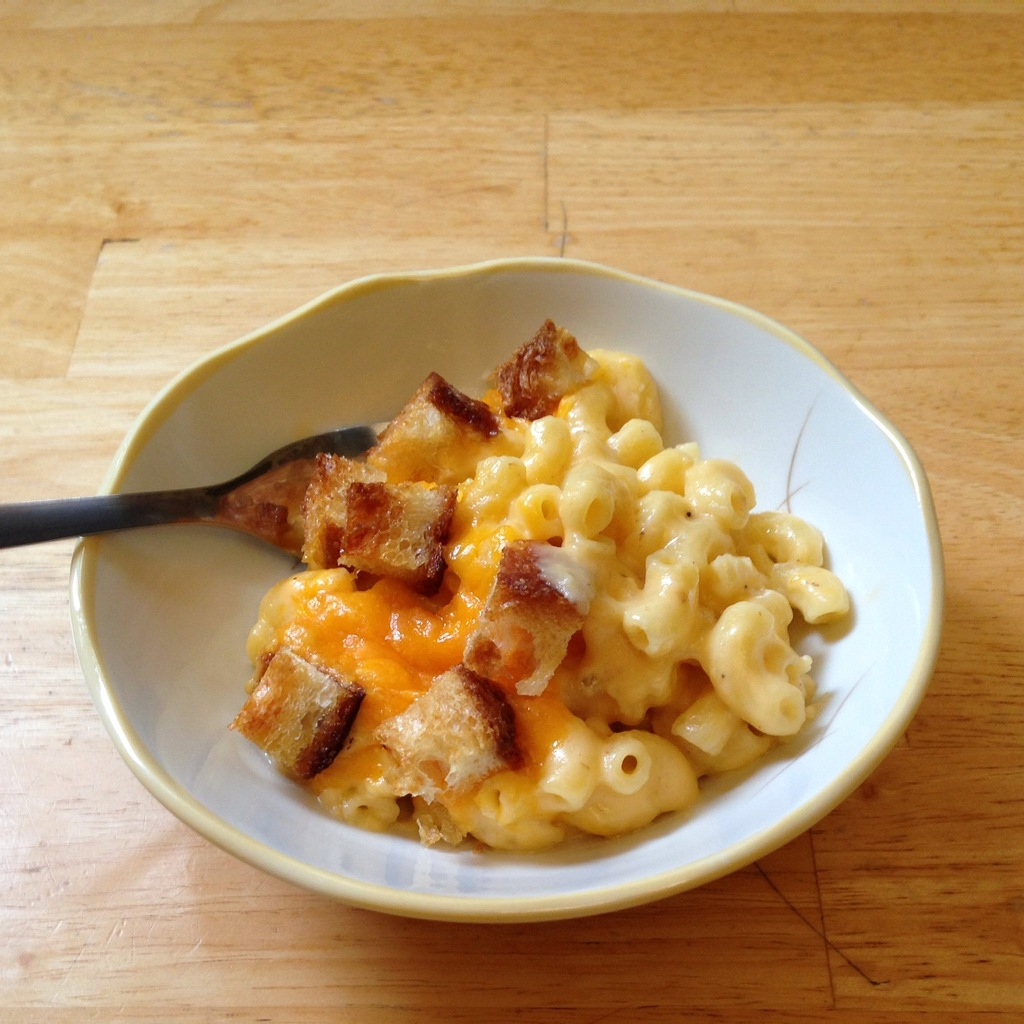pasta: (176, 324, 852, 879)
